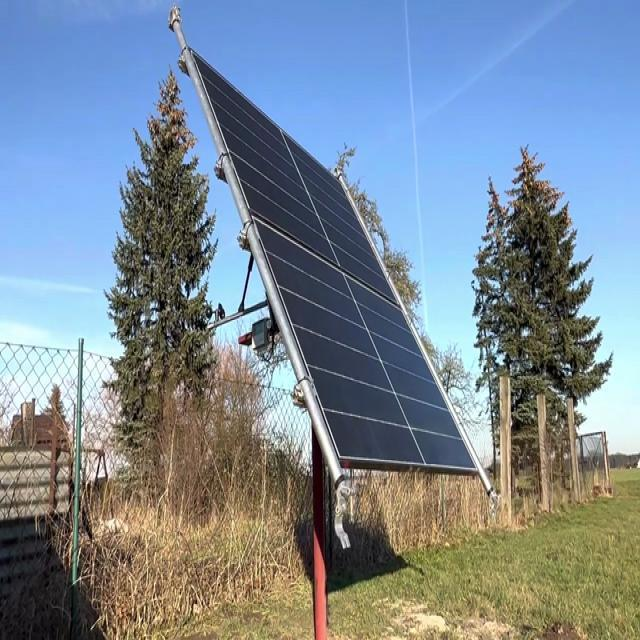Normal Solar Panel: (191, 51, 480, 473)
